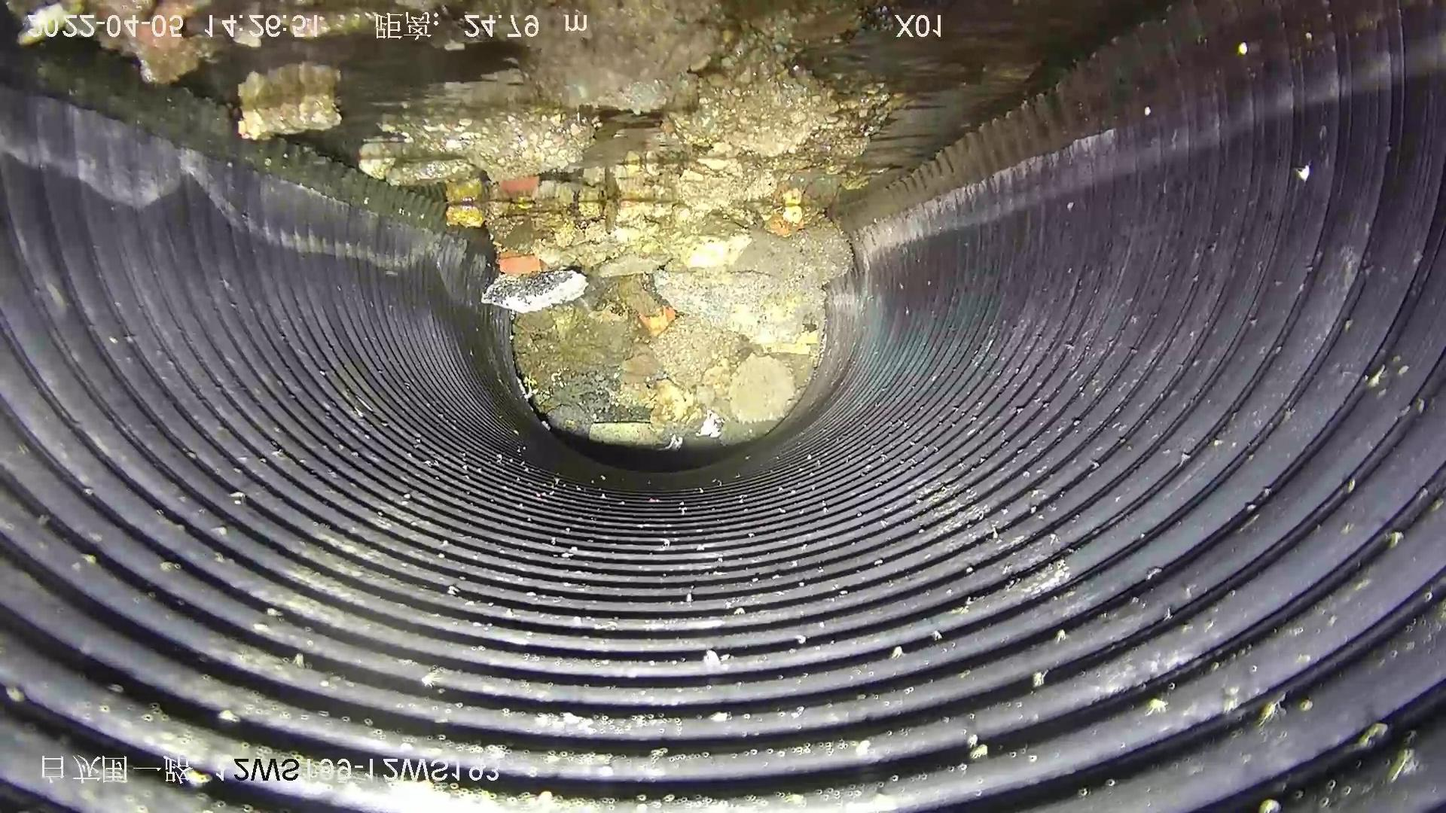CJ: (22, 1, 898, 275), (236, 63, 341, 139)
CQBG: (512, 221, 851, 450)
